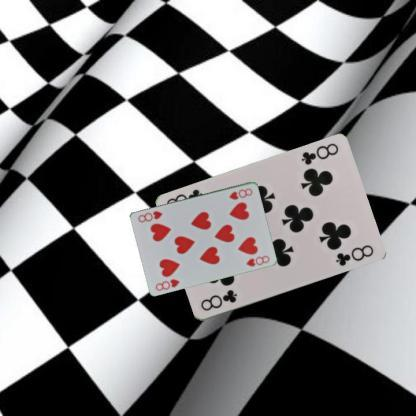8c: (298, 141, 340, 167), (198, 287, 238, 313)
8h: (153, 276, 181, 292), (226, 186, 254, 200)
